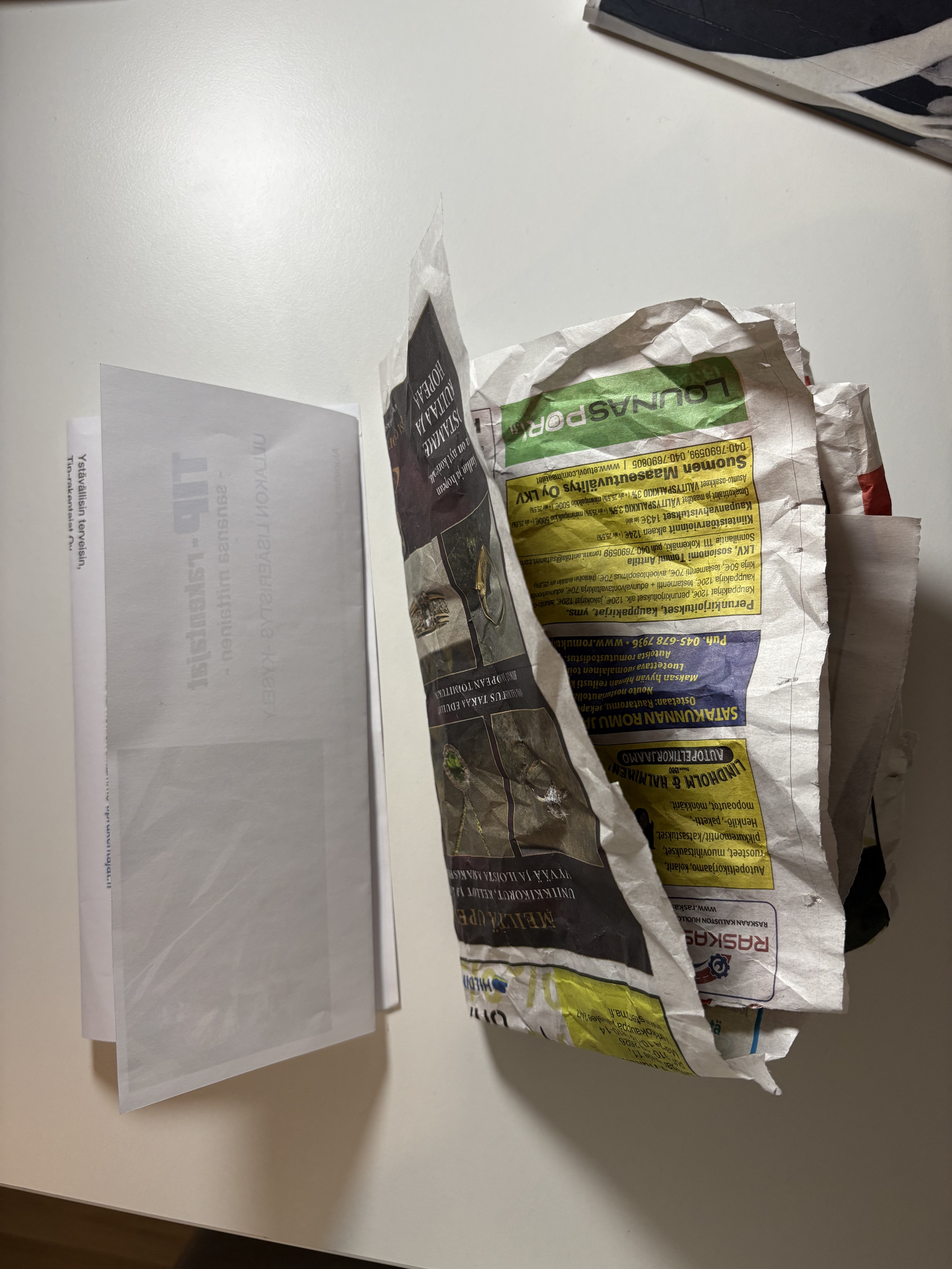paper: (50, 251, 919, 1098)
